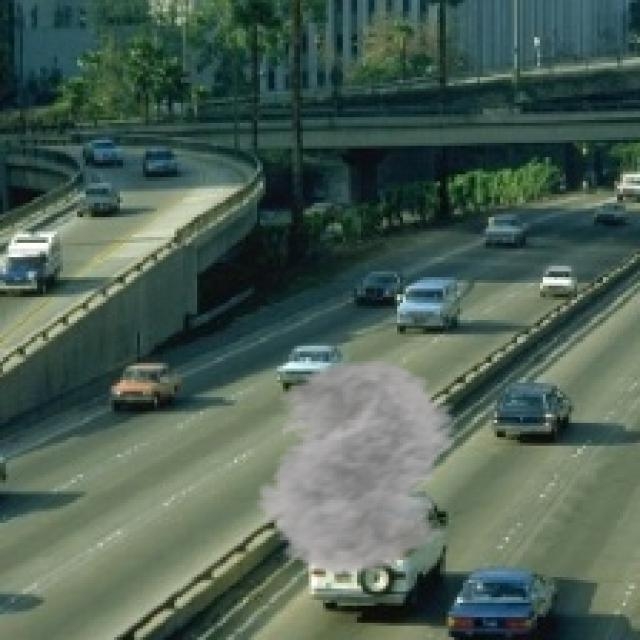smoke: (237, 357, 483, 577)
